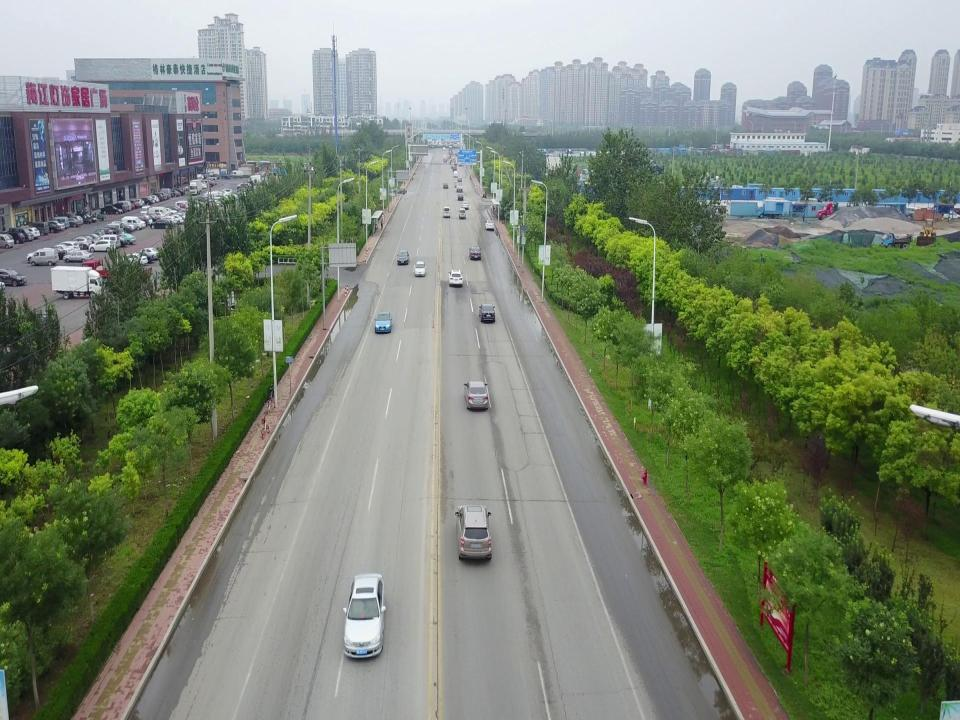car: (335, 570, 395, 666), (454, 503, 498, 562), (455, 372, 491, 414), (370, 309, 394, 335), (476, 301, 498, 324), (447, 268, 463, 287), (412, 261, 429, 278), (466, 244, 482, 262), (396, 248, 410, 267), (484, 219, 496, 233), (441, 181, 449, 192), (456, 192, 465, 200), (453, 179, 461, 188), (461, 200, 469, 208), (453, 170, 459, 179)
truck: (456, 177, 464, 192)
van: (440, 205, 451, 220), (457, 208, 468, 221)
